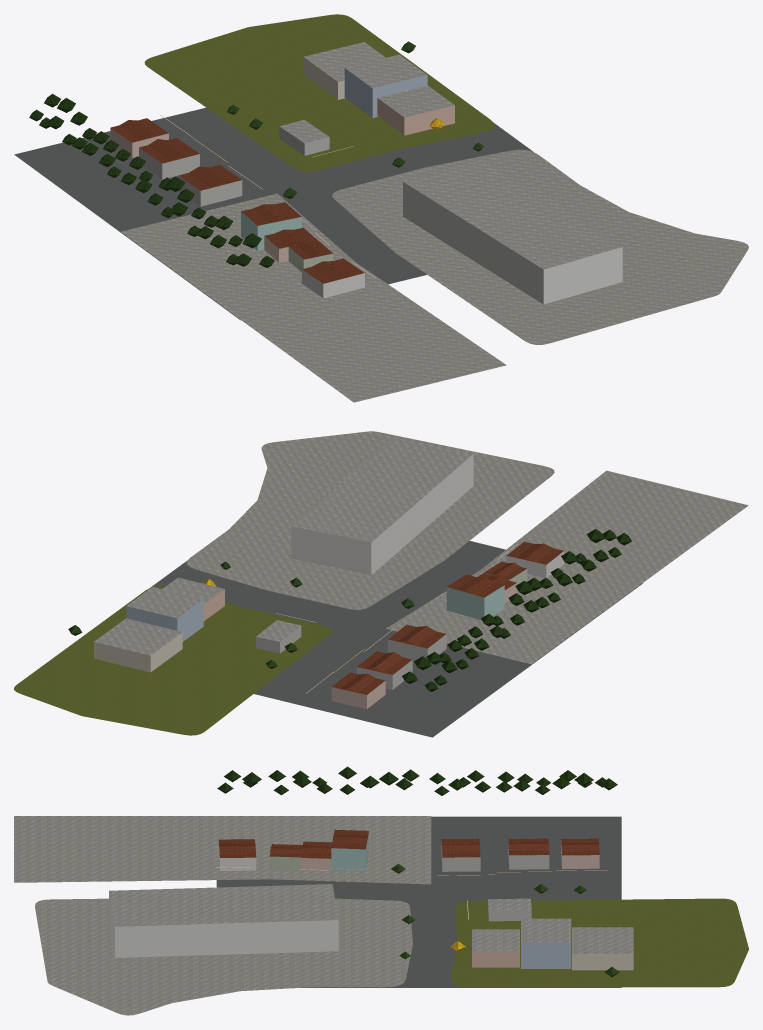
File: cidade_S00_03_lod.gltf
The picture shows the model from 3 angles, top to bottom: view 1: azimuth 30°, elevation 25°; view 2: azimuth 150°, elevation 25°; view 3: azimuth 270°, elevation 25°; orthographic projection. The views are drawn at different scales.
Visible parts, largest first — view 1: S00_03_Chao_LOD2, S00_03_Edificios_LOD1, S00_03_Silhueta_LOD2, S00_03_Vegetacao_LOD2; view 2: S00_03_Chao_LOD2, S00_03_Edificios_LOD1, S00_03_Silhueta_LOD2, S00_03_Vegetacao_LOD2; view 3: S00_03_Chao_LOD2, S00_03_Edificios_LOD1, S00_03_Silhueta_LOD2, S00_03_Vegetacao_LOD2.
Boxes of the visible parts, x1,y1,x2,y2 form: S00_03_Chao_LOD2: (14,14,748,402); S00_03_Edificios_LOD1: (110,42,622,304); S00_03_Silhueta_LOD2: (110,118,364,298); S00_03_Vegetacao_LOD2: (29,41,483,267); S00_03_Chao_LOD2: (14,431,748,737); S00_03_Edificios_LOD1: (94,437,563,709); S00_03_Silhueta_LOD2: (331,541,564,708); S00_03_Vegetacao_LOD2: (68,529,631,691); S00_03_Chao_LOD2: (14,816,748,1015); S00_03_Edificios_LOD1: (109,834,633,970); S00_03_Silhueta_LOD2: (218,829,599,871); S00_03_Vegetacao_LOD2: (217,766,619,976).
Bounding box in the file's own units: 117 × 15.99 × 181.
20 materials, 20 textured.
